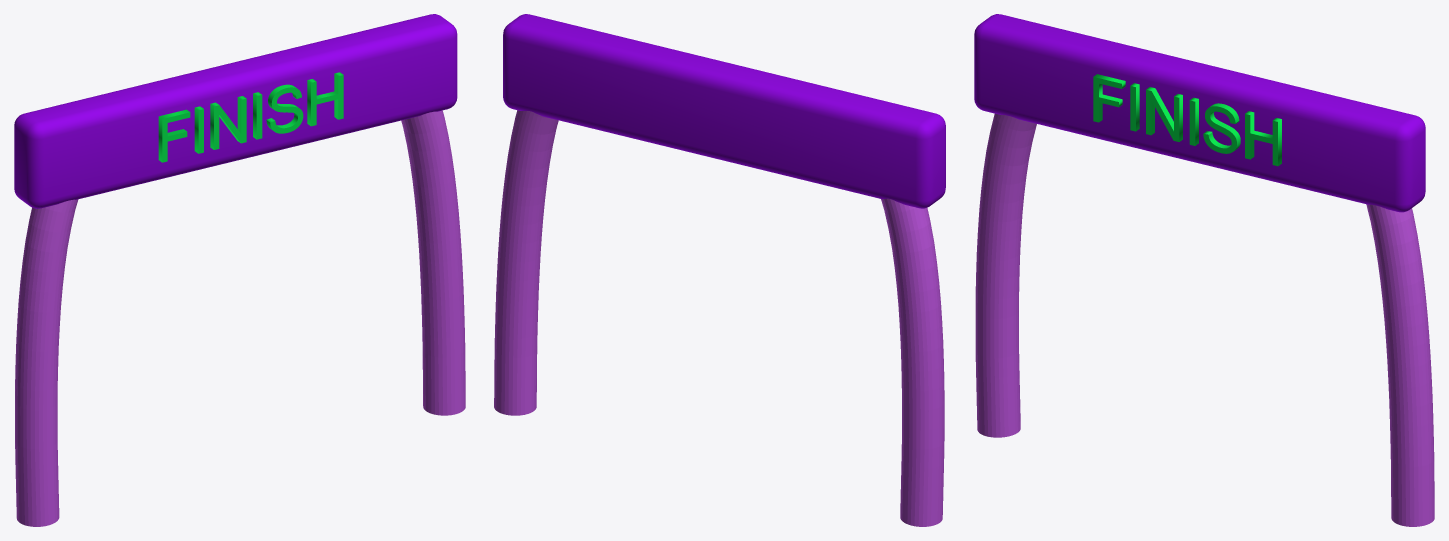
File: finishLine.fbx
The picture shows the model from 3 angles, left to right: view 1: azimuth 30°, elevation 25°; view 2: azimuth 150°, elevation 25°; view 3: azimuth 330°, elevation 25°; orthographic projection.
Visible parts, largest first — view 1: Cube.001; view 2: Cube.001; view 3: Cube.001.
Boxes of the visible parts, x1,y1,x2,y2 form: Cube.001: (14,14,465,526); Cube.001: (494,14,945,526); Cube.001: (974,14,1434,526).
Size of the model in its own units: 544 by 469 by 57.88.
